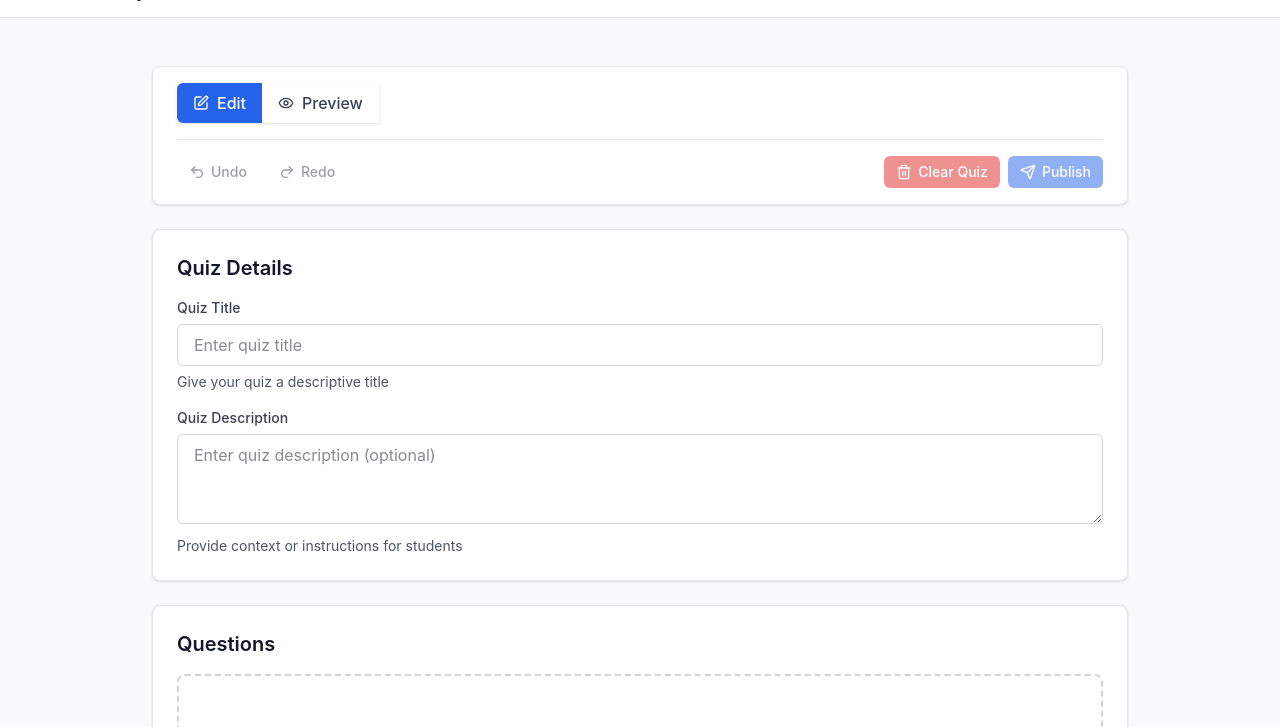
Test case: Quiz Builder Integration Tests › Validation Blocks Invalid Quiz › should block publishing when Single Choice question has no correct answer
Type "Test Quiz" into the field labelled "Quiz Title" at (640, 345), box x1=177 y1=324 x2=1103 y2=366
(page scrolled)
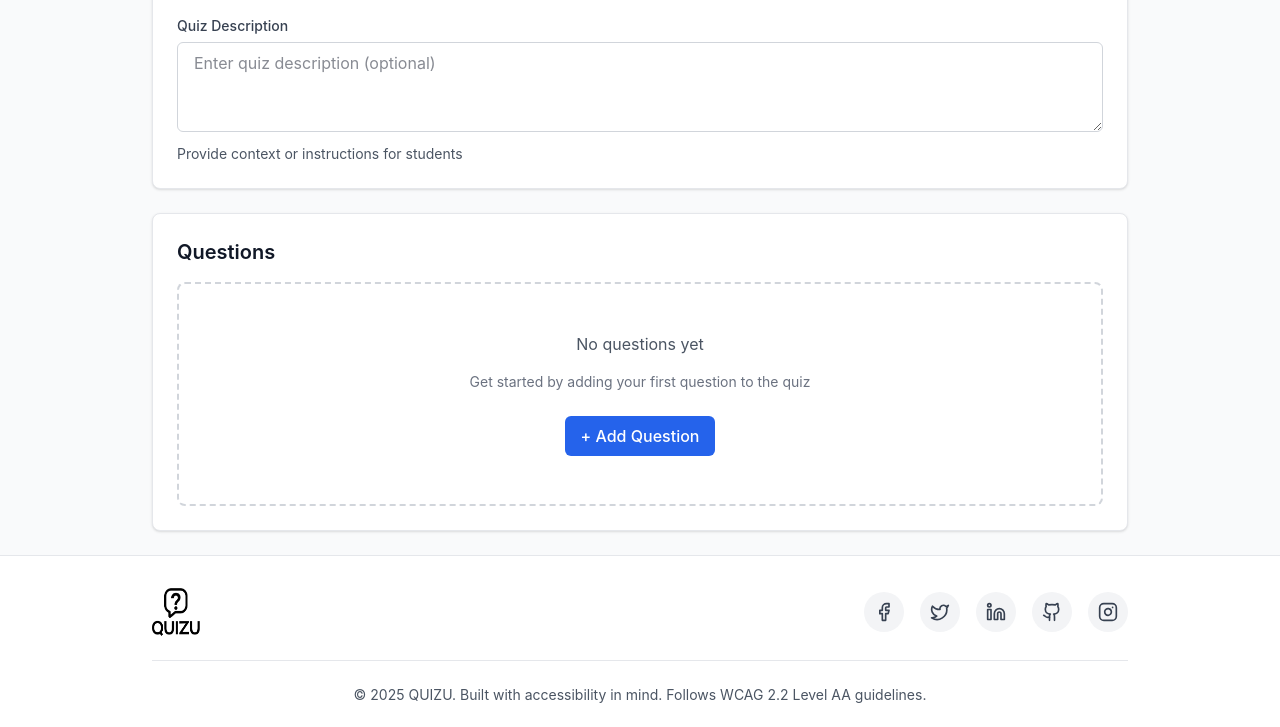
Click the button with aria-label "add first question" at (640, 436), box x1=564 y1=416 x2=715 y2=456
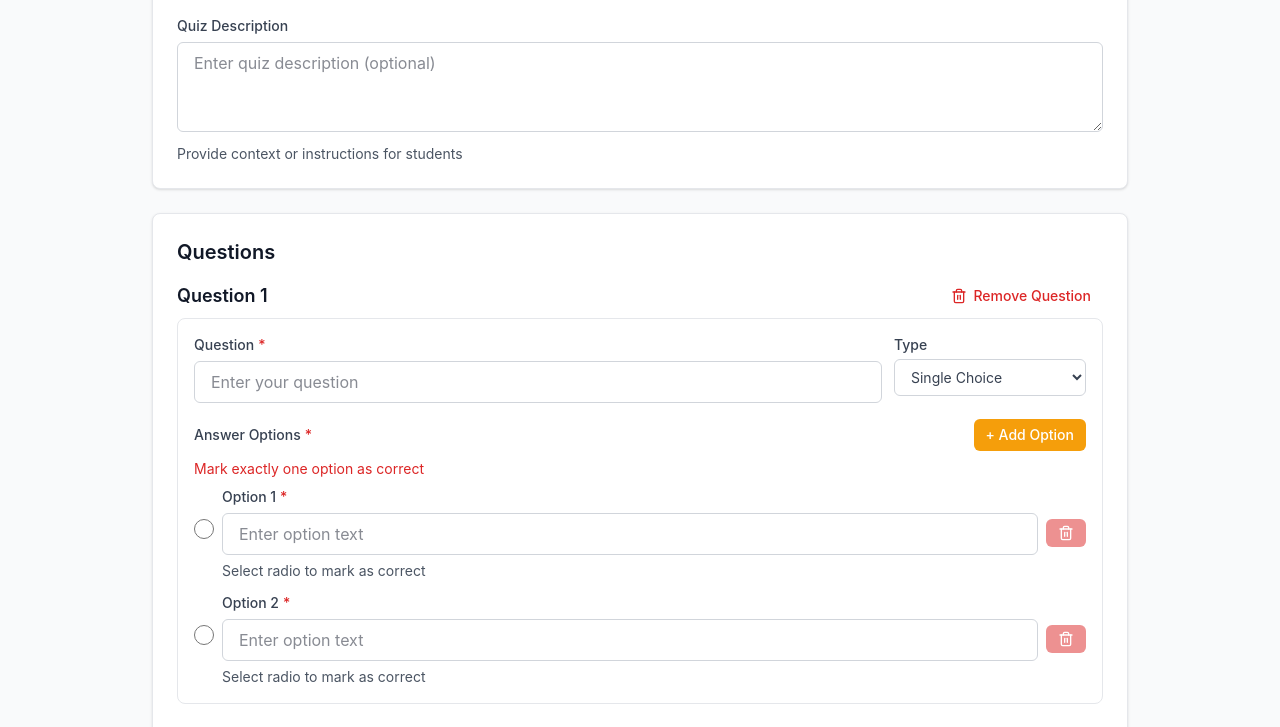
Type "Question 1" into the field named "question required" at (538, 382), box x1=194 y1=361 x2=882 y2=403
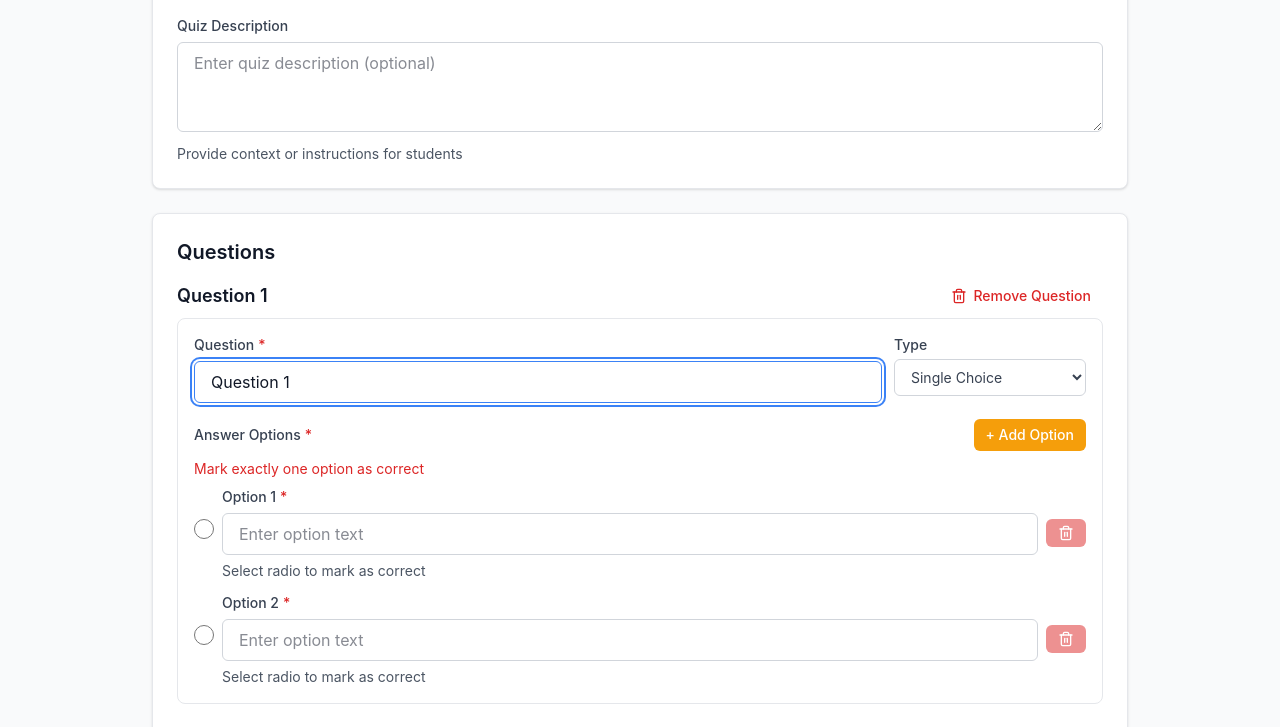
Type "Option A" into the field labelled "Option 1*" at (630, 534), box x1=222 y1=513 x2=1038 y2=555
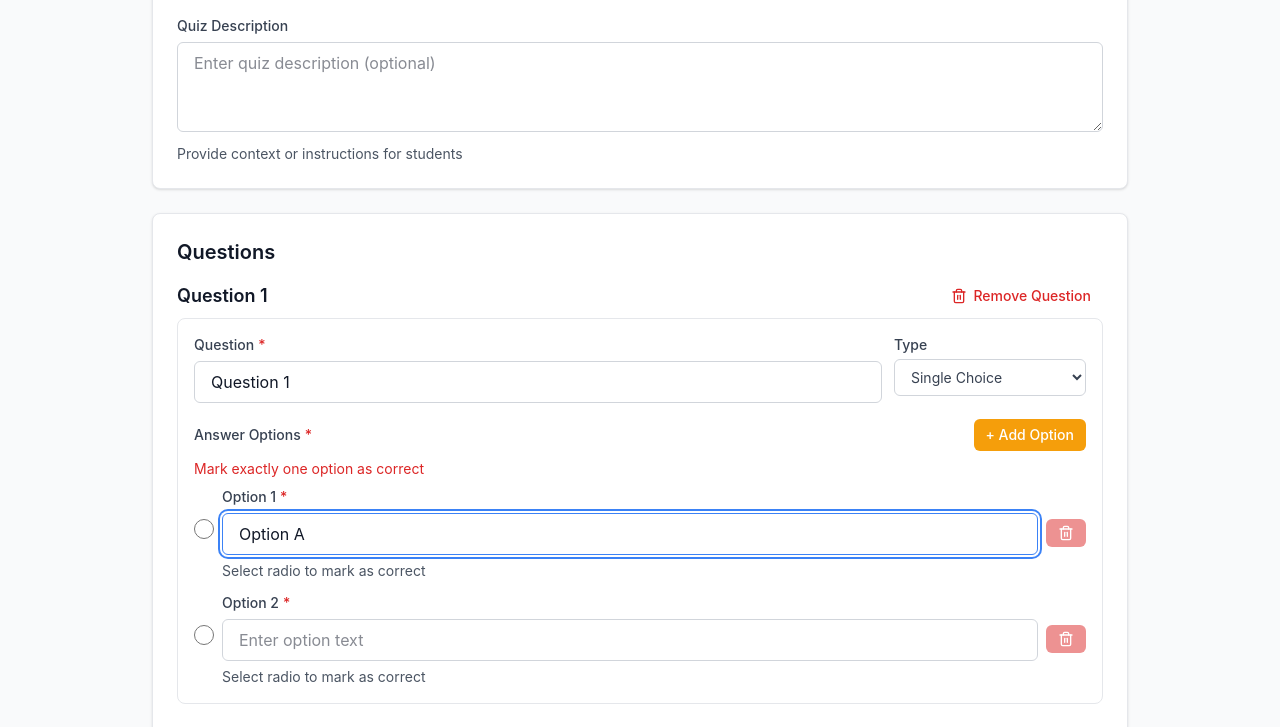
Type "Option B" into the field labelled "Option 2*" at (630, 640), box x1=222 y1=619 x2=1038 y2=661
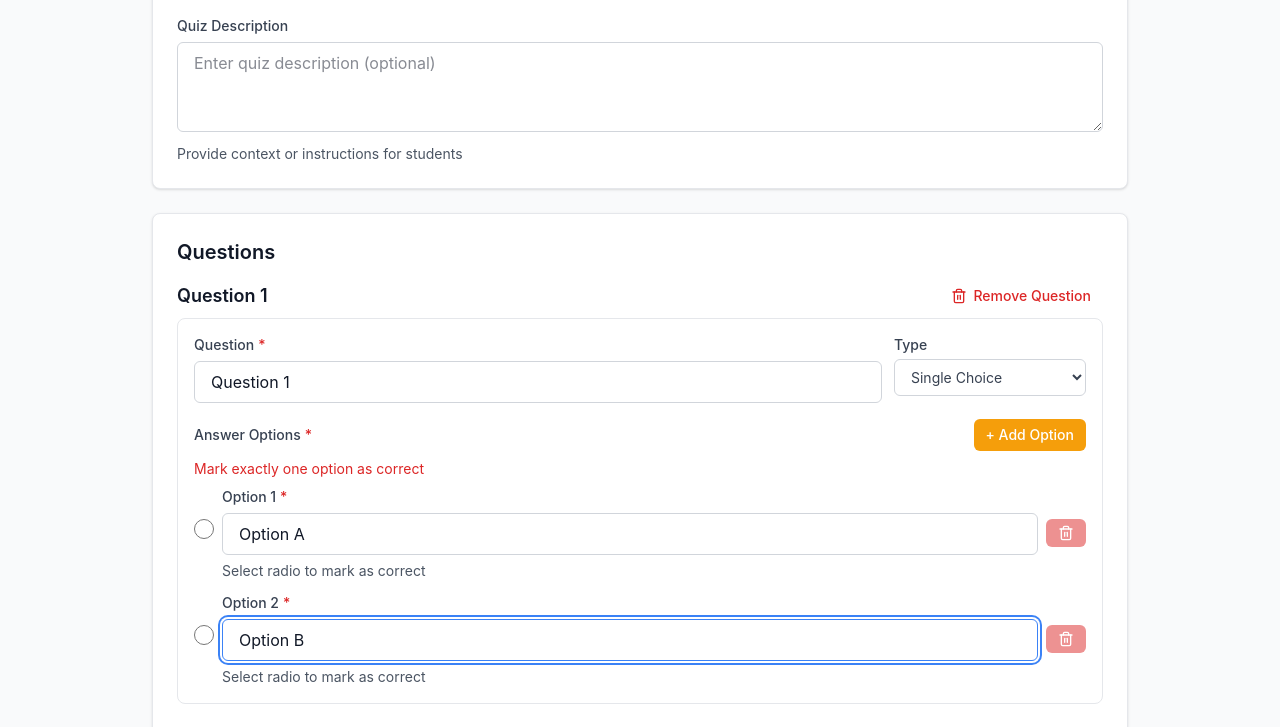
# Mark first option as correct
Click the radio button named "Mark \"Option A\" as correct answer" at (204, 529), box x1=194 y1=519 x2=214 y2=539
(page scrolled)
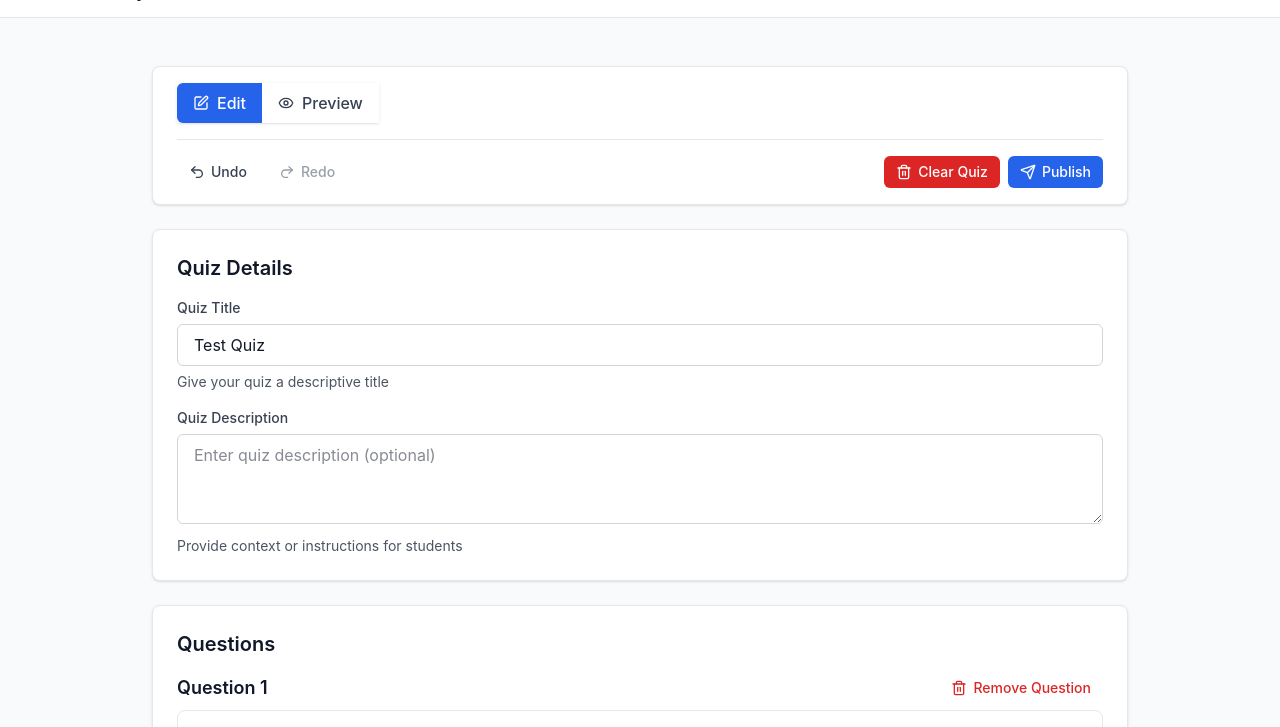
Check: the button "Publish" is enabled, box x1=1008 y1=156 x2=1103 y2=188
